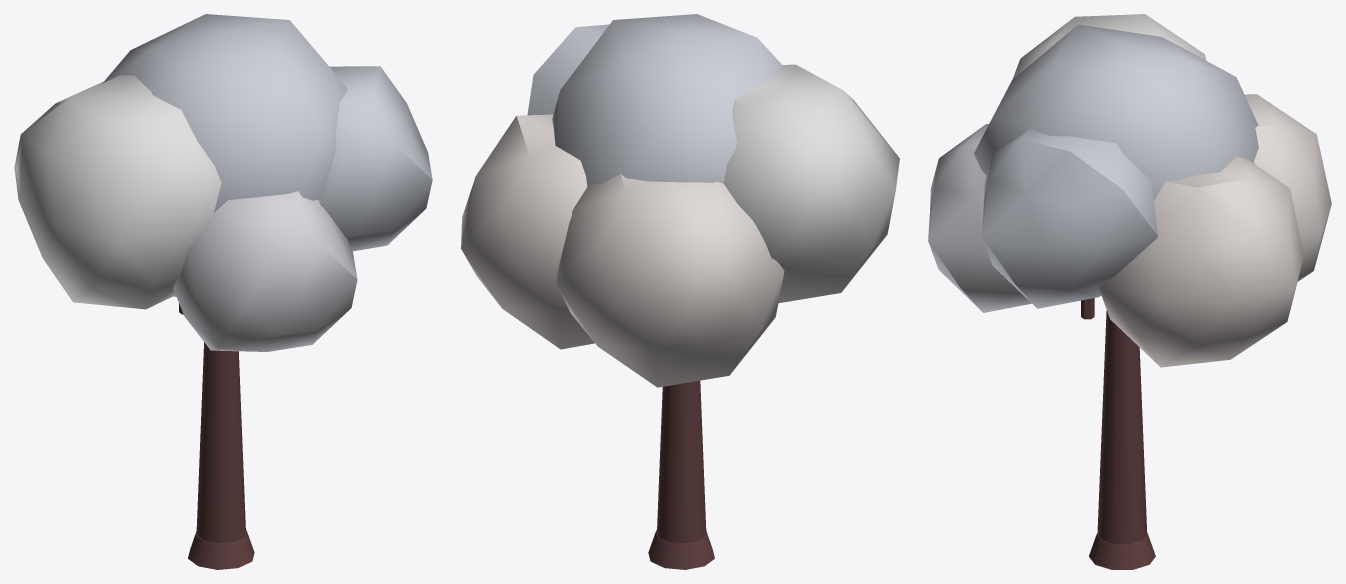
The model's file is sakura_2.glb.
3 views of the same model, side by side, from view 1: azimuth 30°, elevation 25°; view 2: azimuth 150°, elevation 25°; view 3: azimuth 270°, elevation 25° (orthographic).
Parts seen in each view (by area): view 1: sakura; view 2: sakura; view 3: sakura.
Part boxes in pixels (bbox=[...]): sakura: bbox=[14, 14, 432, 569]; sakura: bbox=[461, 14, 899, 569]; sakura: bbox=[928, 14, 1331, 569].
Bounding box in the file's own units: 4.08 × 5.74 × 4.09.
